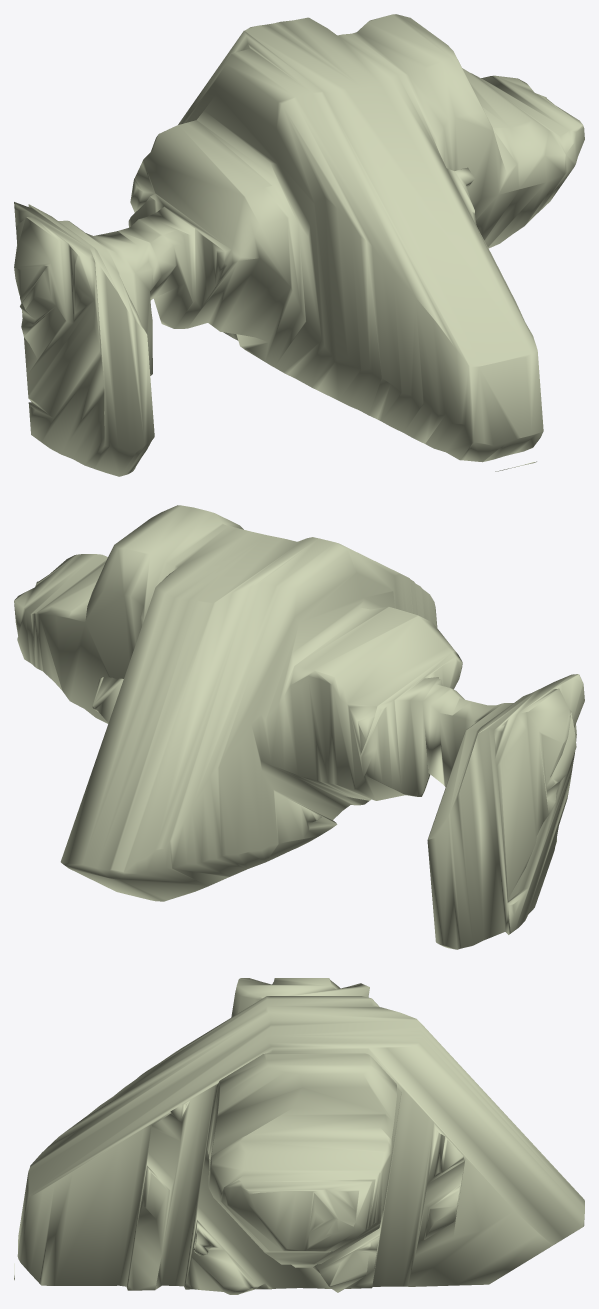
File: explodet.obj
The picture shows the model from 3 angles, top to bottom: view 1: azimuth 30°, elevation 25°; view 2: azimuth 150°, elevation 25°; view 3: azimuth 270°, elevation 25°; orthographic projection. The views are drawn at different scales.
Visible parts, largest first — view 1: Cube1_s_0.svg_s_8.svg_s_11.svg_s_32.svg_s_35.svg; view 2: Cube1_s_0.svg_s_8.svg_s_11.svg_s_32.svg_s_35.svg; view 3: Cube1_s_0.svg_s_8.svg_s_11.svg_s_32.svg_s_35.svg.
Boxes of the visible parts, x1,y1,x2,y2 form: Cube1_s_0.svg_s_8.svg_s_11.svg_s_32.svg_s_35.svg: [14, 14, 584, 476]; Cube1_s_0.svg_s_8.svg_s_11.svg_s_32.svg_s_35.svg: [14, 505, 584, 949]; Cube1_s_0.svg_s_8.svg_s_11.svg_s_32.svg_s_35.svg: [14, 978, 584, 1294].
Bounding box in the file's own units: 1.6 × 0.9086 × 1.7.
